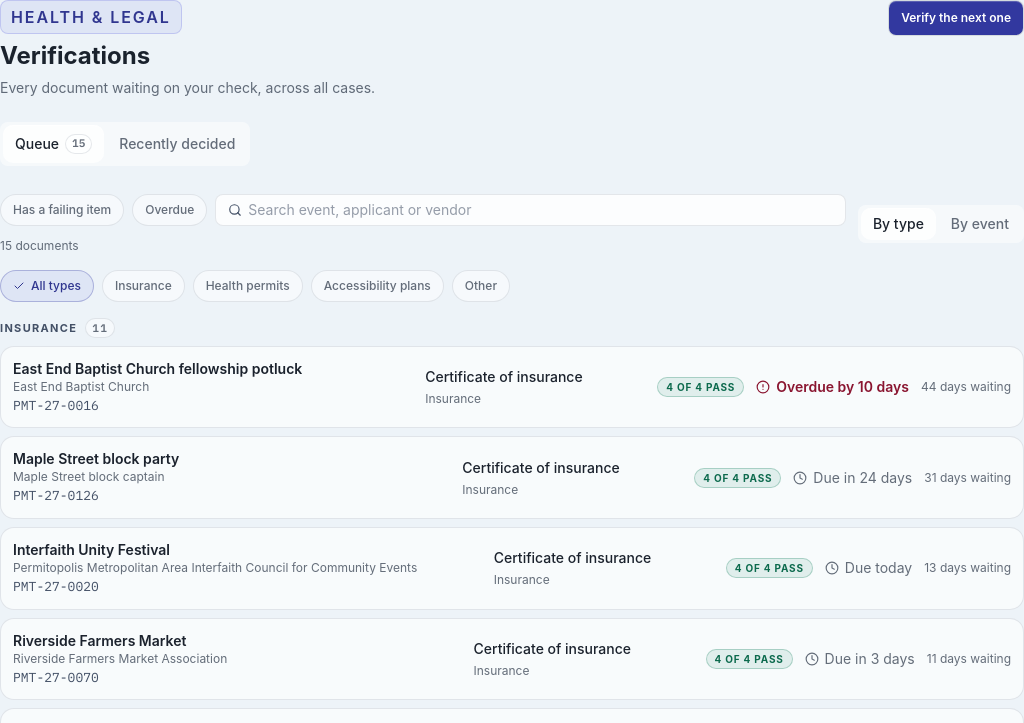
Test: Verifications: empty states › no filters narrow to nothing: an ordinary empty-of-narrowing state never shows for the real seed, but a narrowed-to-nothing search does
This screenshot has width=1024, height=723.
Type "no such event anywhere" into the search field with placeholder "Search event, applicant or vendor" at (544, 210), box [242,194,845,226]
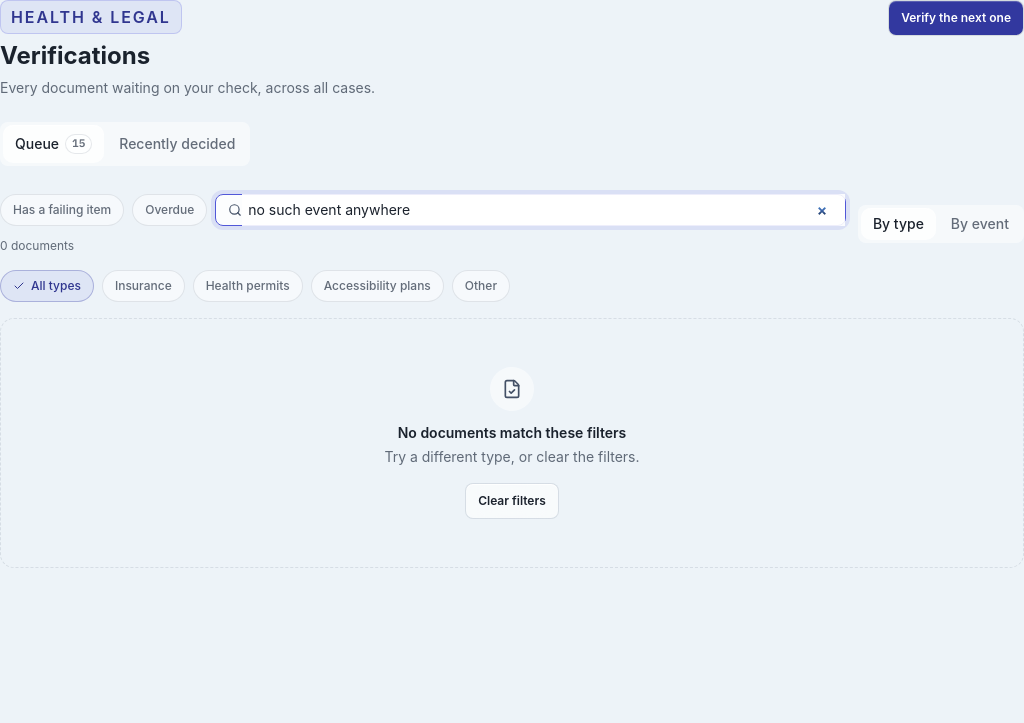
Expected: the text "No documents match these filters" is shown, [384,423,640,443]
Click the button "Clear filters" at (512, 501), box [465,483,559,519]
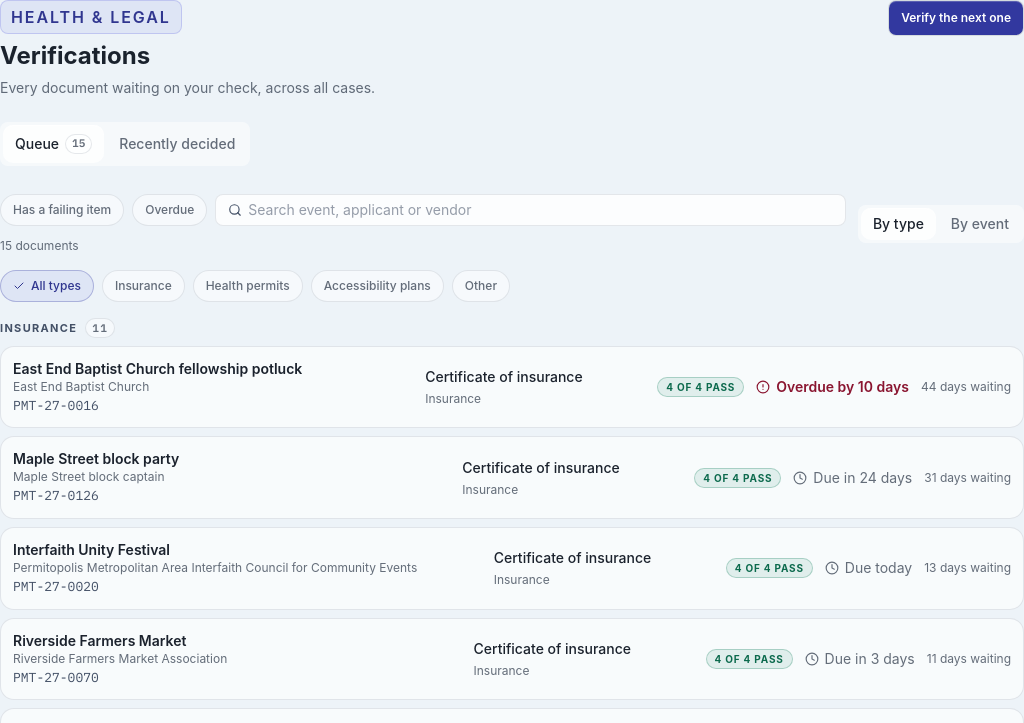
Expected: the text "No documents match these filters" is gone
